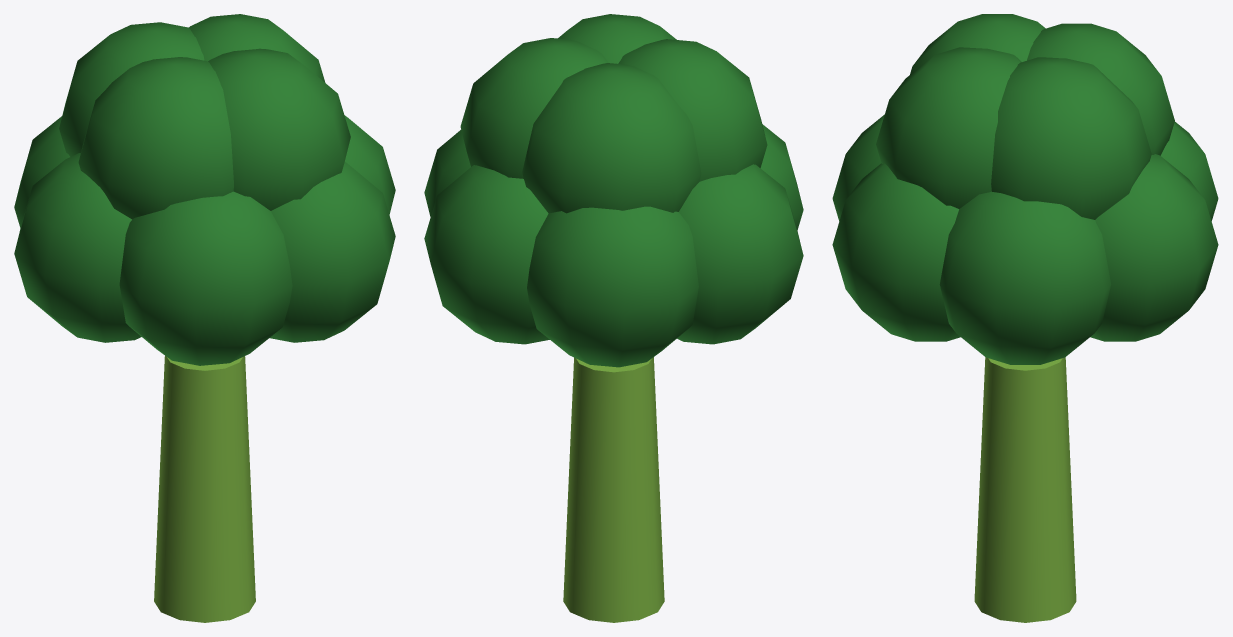
File: Broccoli.fbx
3 views of the same model, side by side, from view 1: azimuth 30°, elevation 25°; view 2: azimuth 150°, elevation 25°; view 3: azimuth 270°, elevation 25° (orthographic).
Parts seen in each view (by area): view 1: Broccoli; view 2: Broccoli; view 3: Broccoli.
Boxes of the visible parts, x1,y1,x2,y2 form: Broccoli: (14, 14, 395, 622); Broccoli: (424, 14, 803, 622); Broccoli: (832, 14, 1218, 622).
Bounding box in the file's own units: 0.1114 × 0.169 × 0.106.
